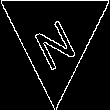N_NW: (29, 5, 81, 69)
